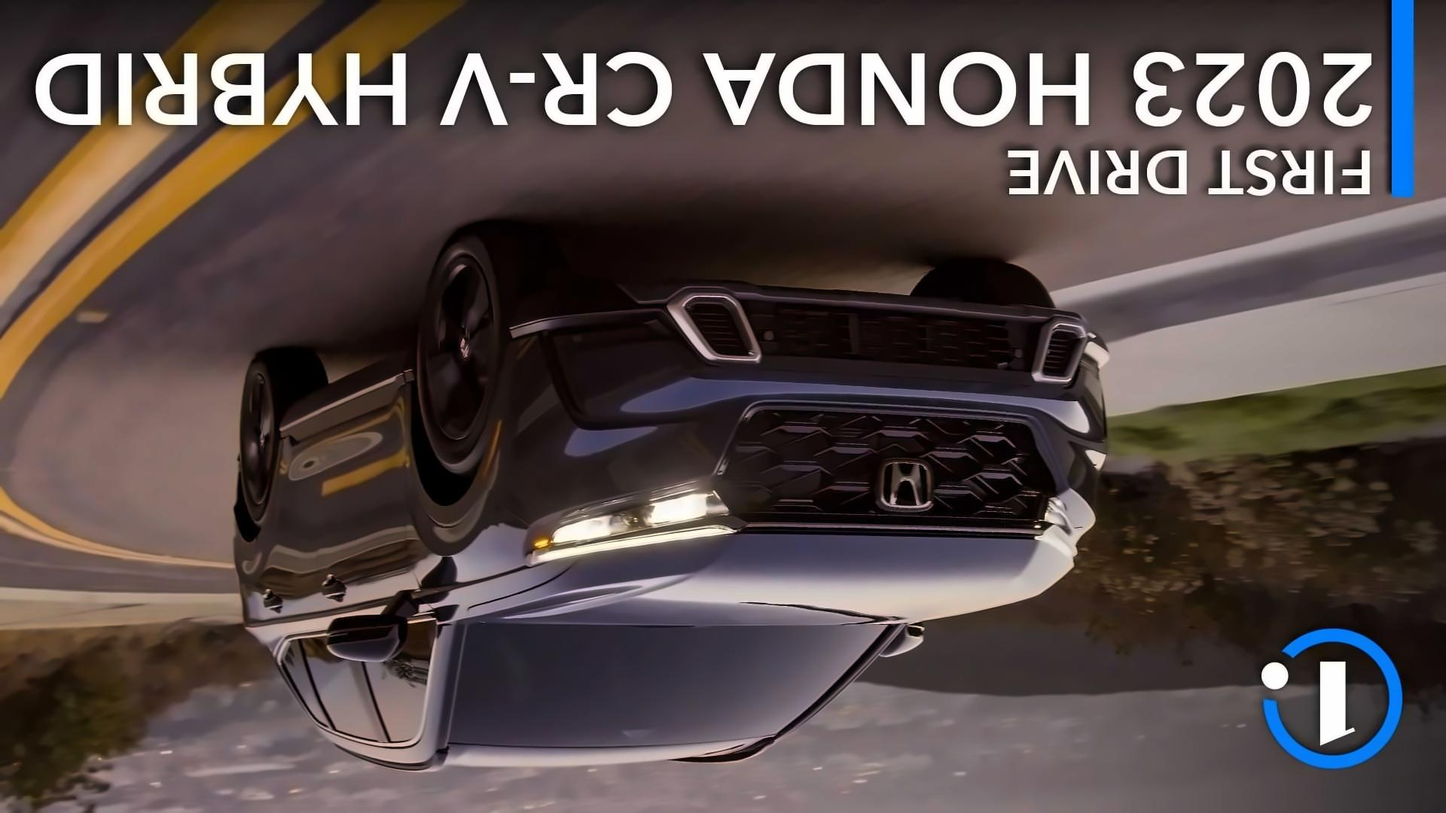Car hood: (464, 529, 1085, 631)
Fender - -F-L-: (402, 363, 541, 633)
Front bumper: (494, 277, 1118, 508)
Headlight - -L-: (517, 465, 758, 568)
Headlight - -R-: (1016, 486, 1102, 542)
Passenger-s door - -F-L-: (321, 395, 433, 760)
Passenger-s door - -R-L-: (249, 419, 359, 756)
Side bumper - -L-: (268, 340, 431, 444)
Side mirror - -L-: (316, 604, 414, 675)
Side mirror - -R-: (860, 610, 939, 668)
